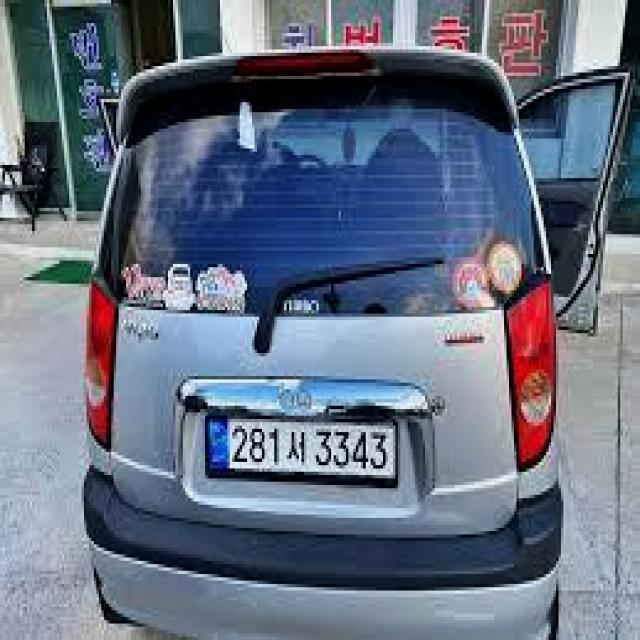car: (70, 29, 640, 640)
illegal_plate: (204, 413, 402, 492)
